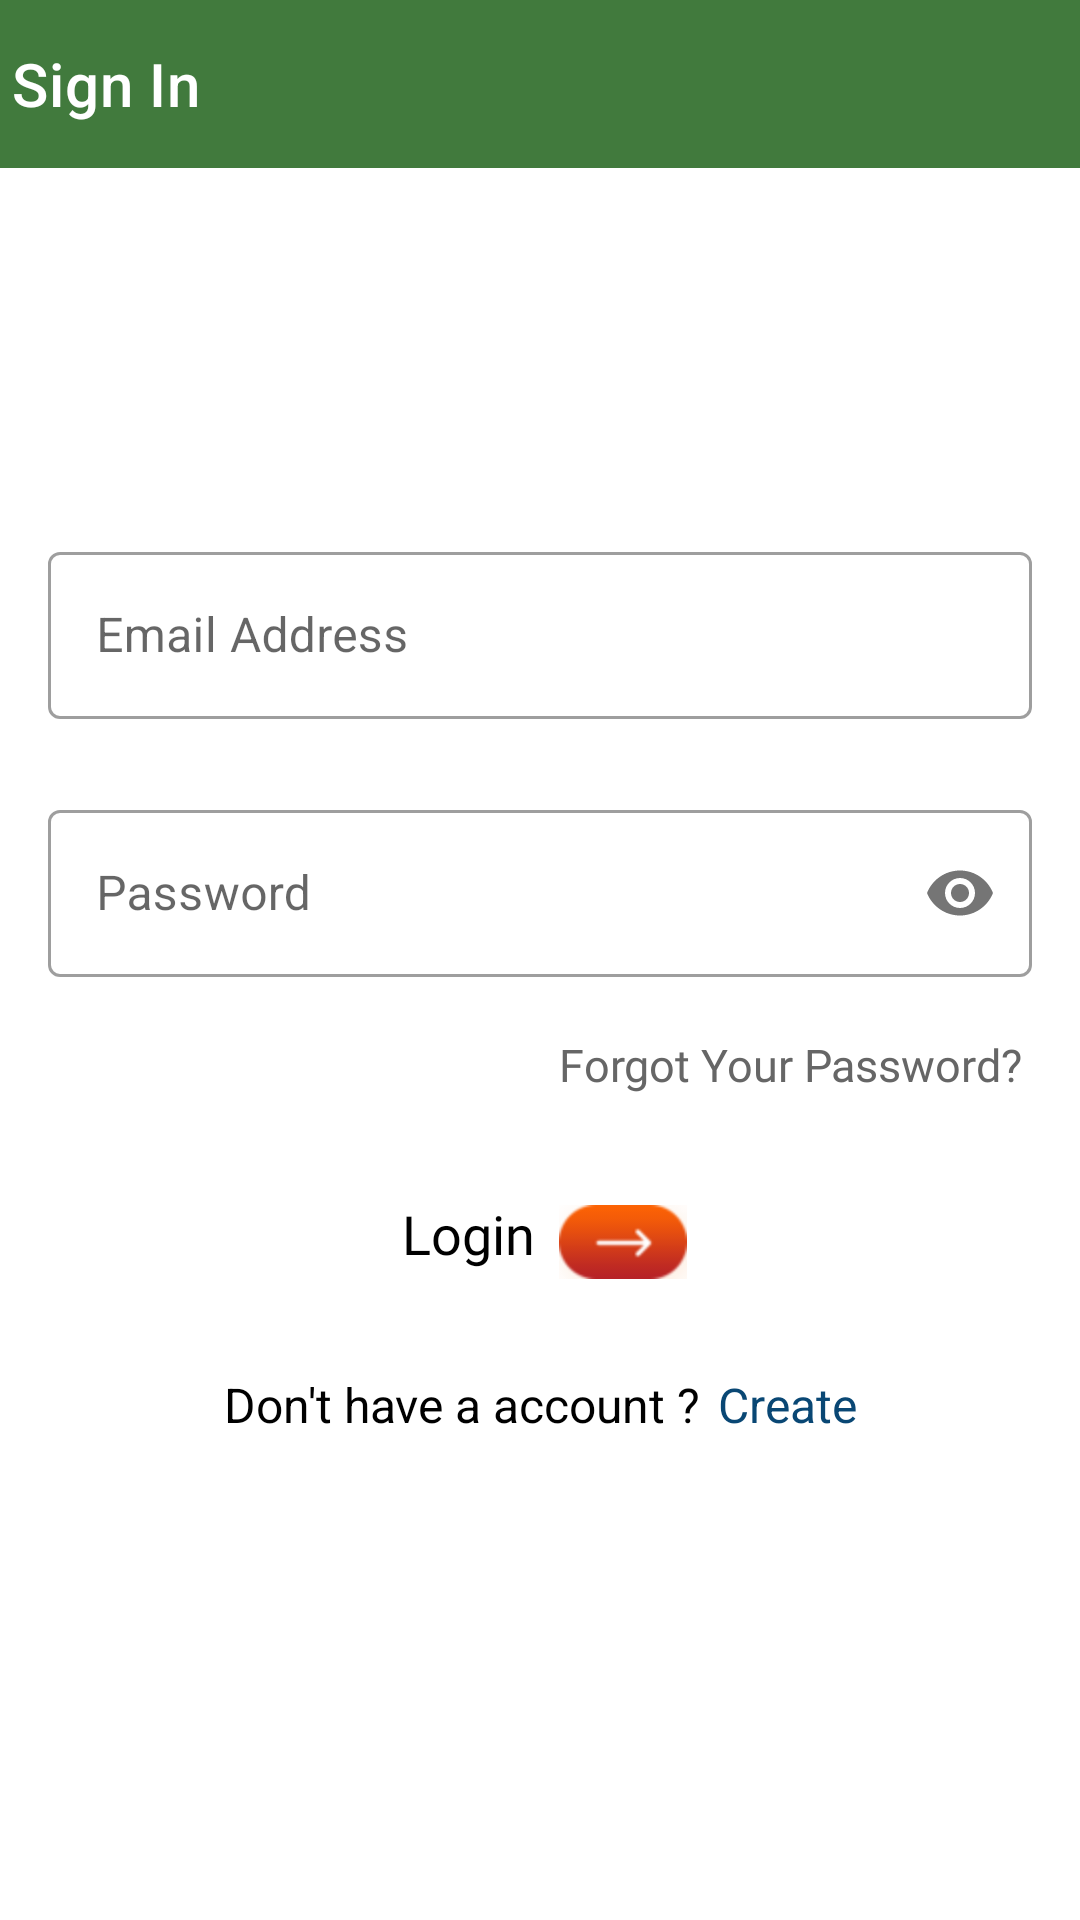

Icons on this 1080*1920 Android screen, each with the point to tap as point (x, y):
arrow: point (623, 1242)
